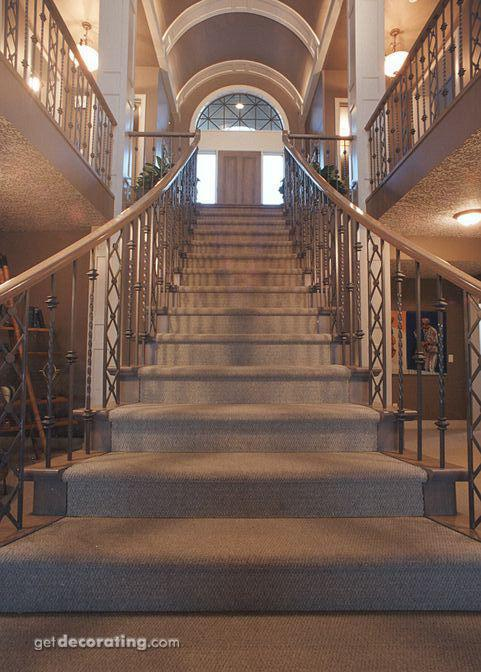Escaleras: (0, 130, 478, 668)
Puerta: (216, 147, 263, 202)
